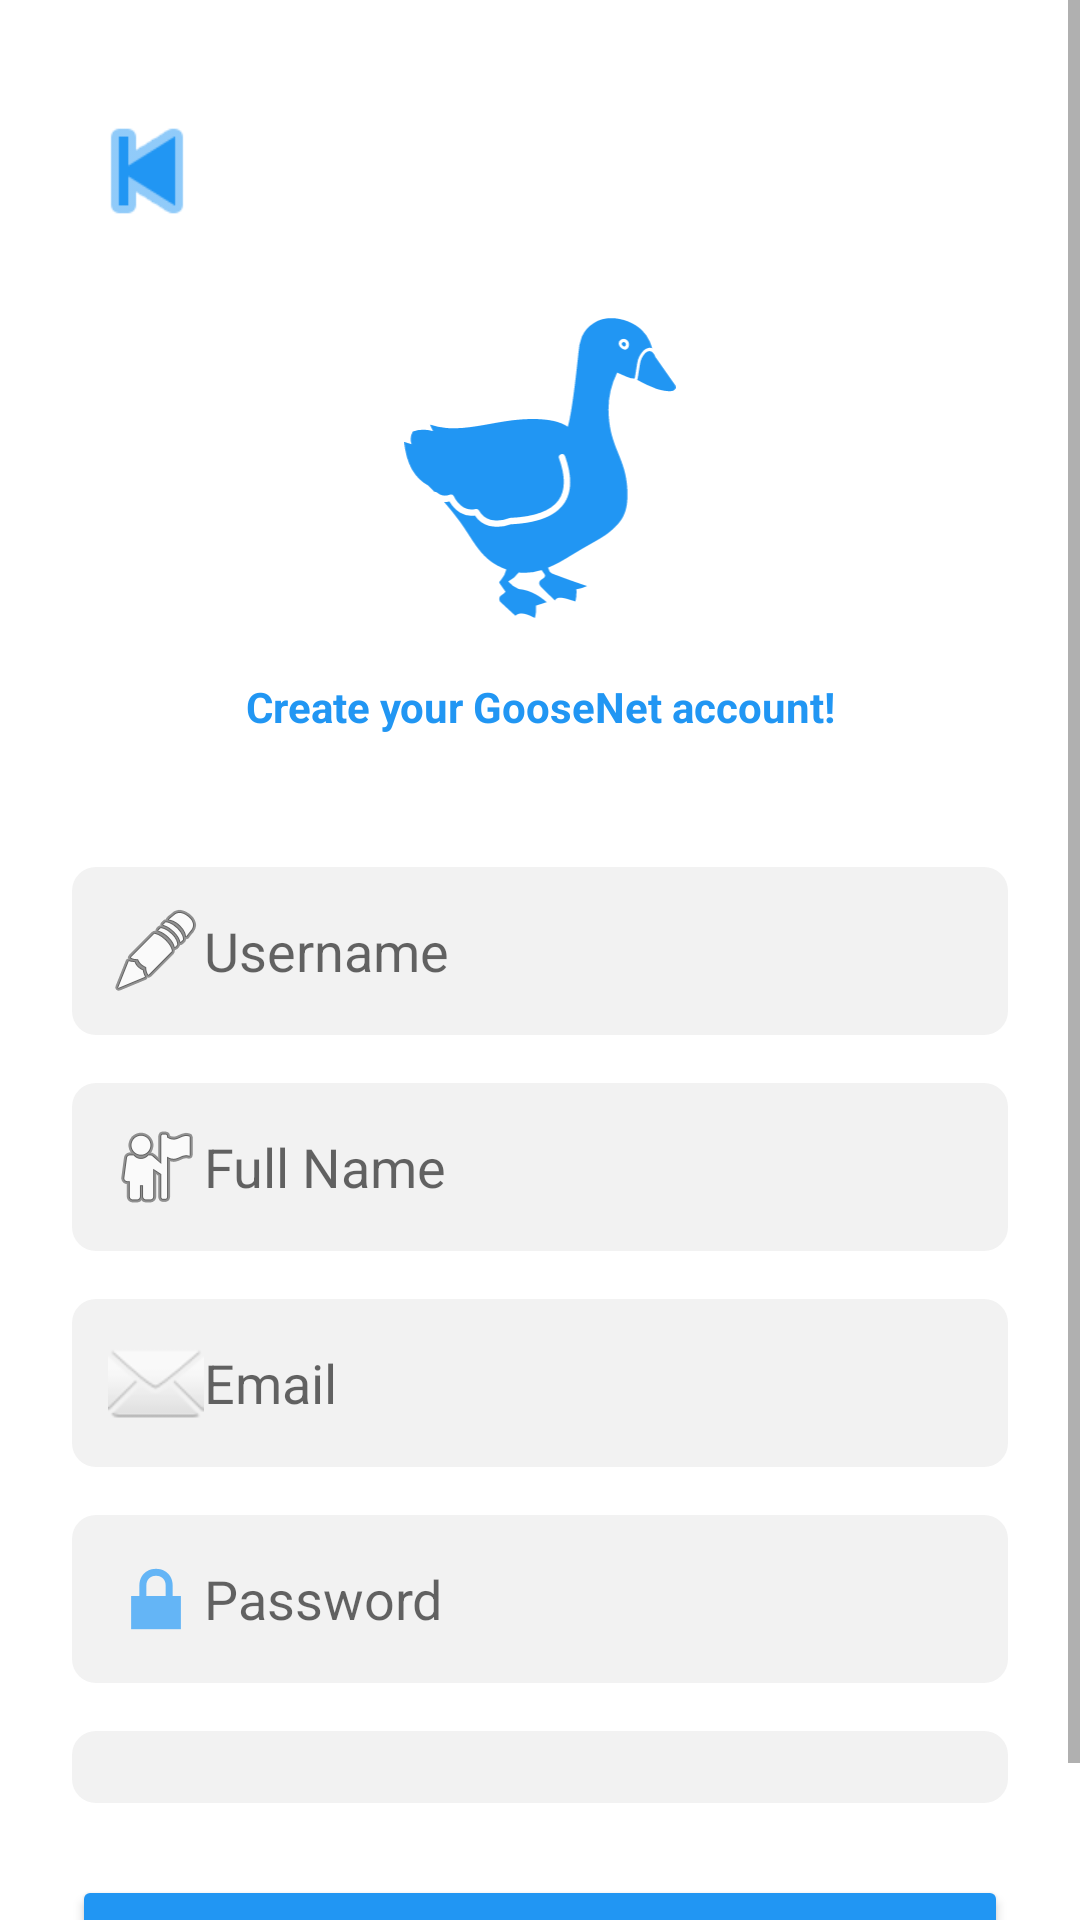

Icon bounding boxes for this 1080 x 1920 phone screenshot, format (x1, y1, x2, y2):
Back: (111, 128, 183, 214)
